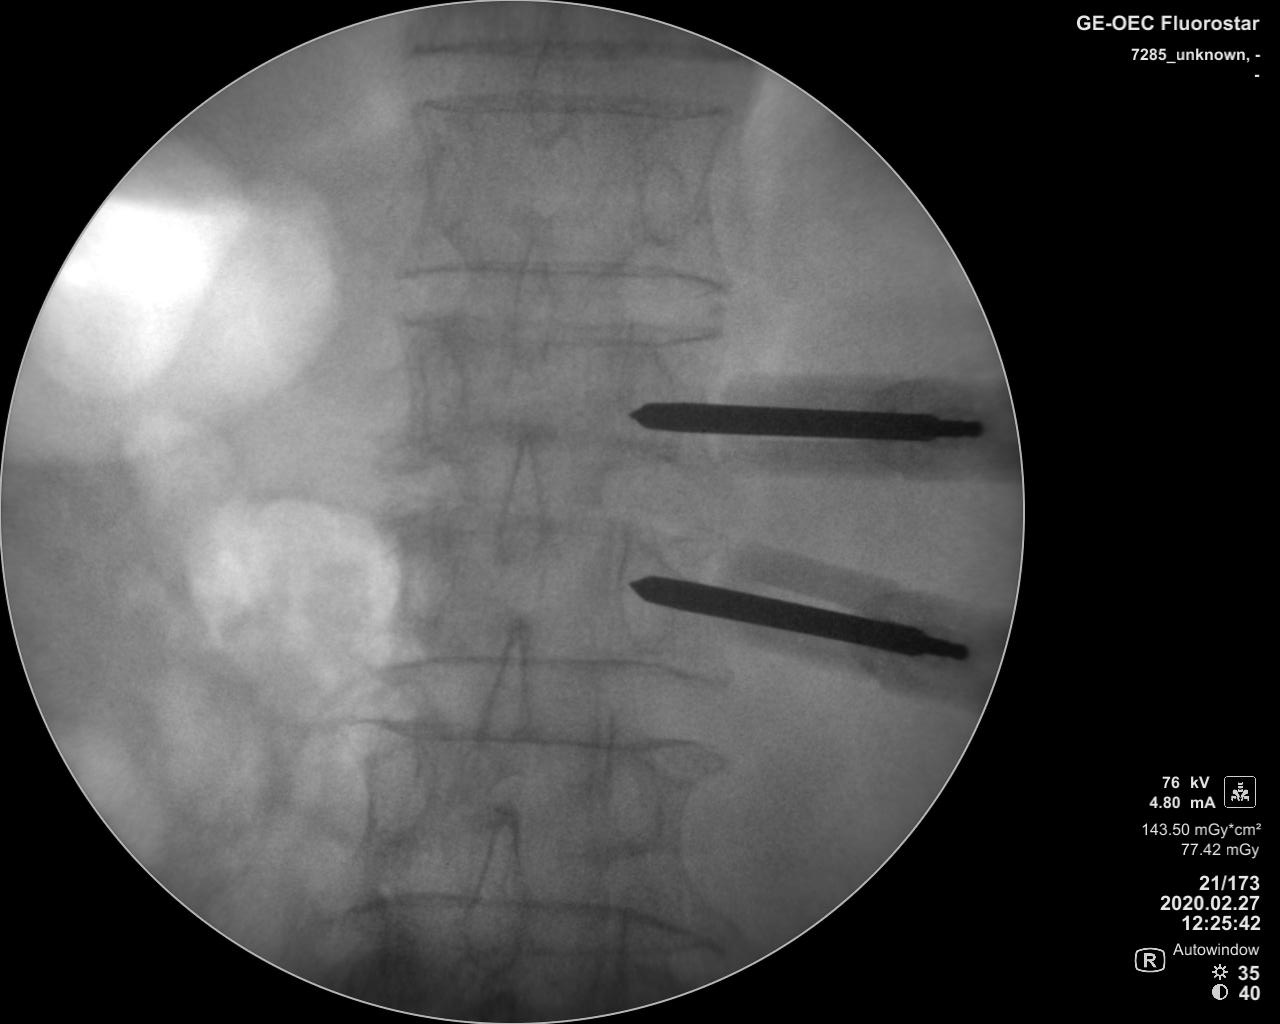eyes: (611, 530, 679, 653), (618, 344, 682, 460), (364, 743, 428, 848), (402, 339, 466, 445), (602, 747, 660, 854), (634, 153, 690, 247), (398, 550, 456, 630)
line: (353, 892, 717, 945), (385, 306, 735, 354), (391, 257, 747, 301), (378, 712, 715, 752), (408, 87, 744, 126), (378, 652, 727, 689), (399, 34, 743, 70)
nose: (459, 805, 529, 983), (474, 616, 536, 769), (494, 426, 549, 572), (508, 229, 556, 368), (523, 24, 577, 146)
